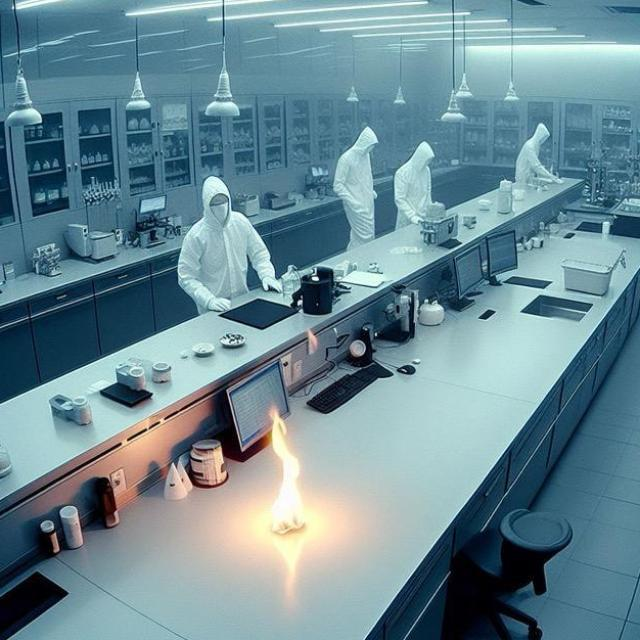smoke: (260, 410, 302, 541)
